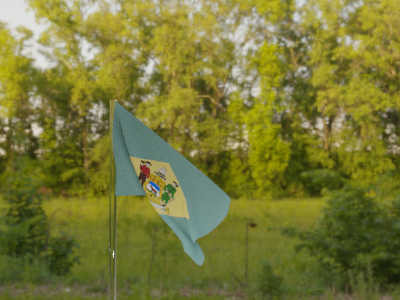Delaware flag: (114, 101, 233, 268)
